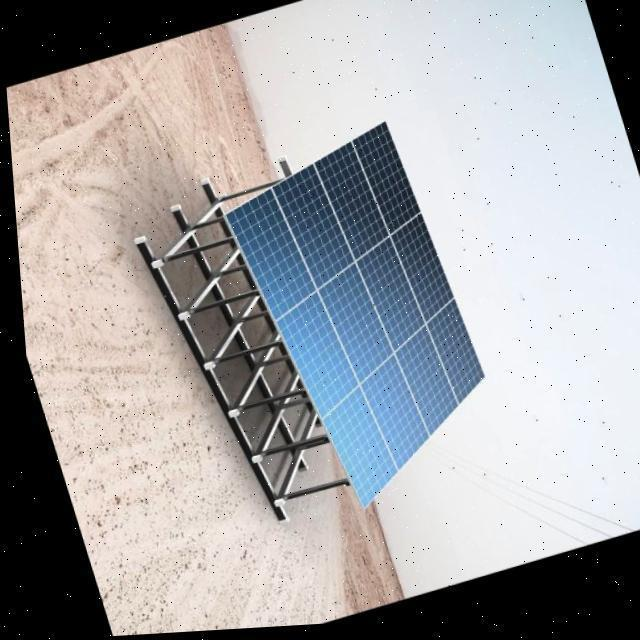Normal Solar Panel: (211, 126, 508, 518)
